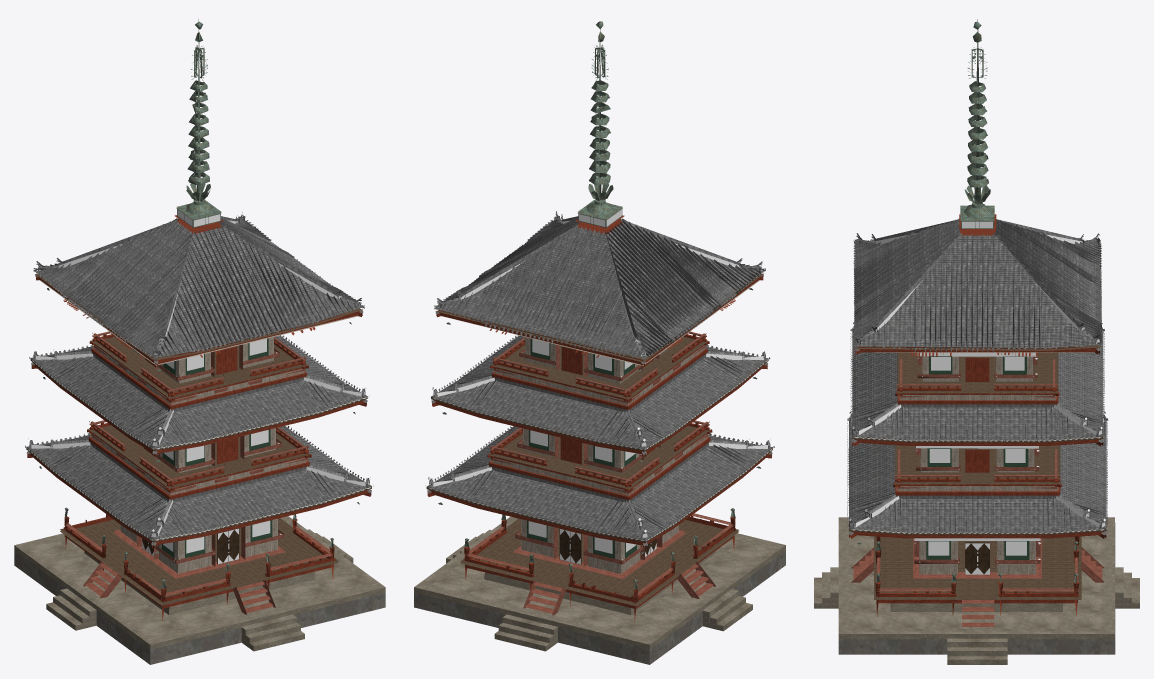
The model's file is Pagoda_Sanju_31m.gltf.
The picture shows the model from 3 angles, left to right: view 1: azimuth 30°, elevation 25°; view 2: azimuth 150°, elevation 25°; view 3: azimuth 270°, elevation 25°; orthographic projection.
Parts seen in each view (by area): view 1: Base_LOD0.003, Roof3_LOD0, Roof1_LOD0.003, Roof2_LOD0.003, Wall1_LOD0.003, Sorin_LOD0.003, Wall3_LOD0, Wall2_LOD0.003; view 2: Base_LOD0.003, Roof3_LOD0, Roof1_LOD0.003, Roof2_LOD0.003, Wall1_LOD0.003, Sorin_LOD0.003, Wall3_LOD0, Wall2_LOD0.003; view 3: Base_LOD0.003, Roof3_LOD0, Roof1_LOD0.003, Roof2_LOD0.003, Wall1_LOD0.003, Sorin_LOD0.003, Wall3_LOD0, Wall2_LOD0.003.
Part boxes in pixels (x1=…): Base_LOD0.003: x1=14, y1=507, x2=385, y2=664; Roof3_LOD0: x1=33, y1=212, x2=364, y2=365; Roof1_LOD0.003: x1=25, y1=420, x2=373, y2=545; Roof2_LOD0.003: x1=29, y1=331, x2=369, y2=454; Wall1_LOD0.003: x1=27, y1=454, x2=371, y2=578; Sorin_LOD0.003: x1=176, y1=19, x2=221, y2=227; Wall3_LOD0: x1=36, y1=276, x2=362, y2=383; Wall2_LOD0.003: x1=31, y1=365, x2=366, y2=472; Base_LOD0.003: x1=414, y1=508, x2=785, y2=664; Roof3_LOD0: x1=434, y1=211, x2=765, y2=365; Roof1_LOD0.003: x1=425, y1=420, x2=774, y2=545; Roof2_LOD0.003: x1=430, y1=332, x2=770, y2=454; Wall1_LOD0.003: x1=427, y1=454, x2=771, y2=579; Sorin_LOD0.003: x1=577, y1=21, x2=622, y2=227; Wall3_LOD0: x1=436, y1=276, x2=763, y2=383; Wall2_LOD0.003: x1=432, y1=365, x2=767, y2=473; Base_LOD0.003: x1=814, y1=517, x2=1139, y2=664; Roof3_LOD0: x1=853, y1=214, x2=1101, y2=356; Roof1_LOD0.003: x1=847, y1=411, x2=1108, y2=538; Roof2_LOD0.003: x1=850, y1=322, x2=1104, y2=445; Wall1_LOD0.003: x1=849, y1=444, x2=1106, y2=578; Sorin_LOD0.003: x1=960, y1=19, x2=994, y2=228; Wall3_LOD0: x1=855, y1=349, x2=1099, y2=381; Wall2_LOD0.003: x1=852, y1=441, x2=1103, y2=472.
Size of the model in its own units: 16.16 by 31.88 by 16.18.
Materials: 14 (13 with a texture image).
